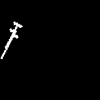double_crochet: (1, 22, 21, 58)
